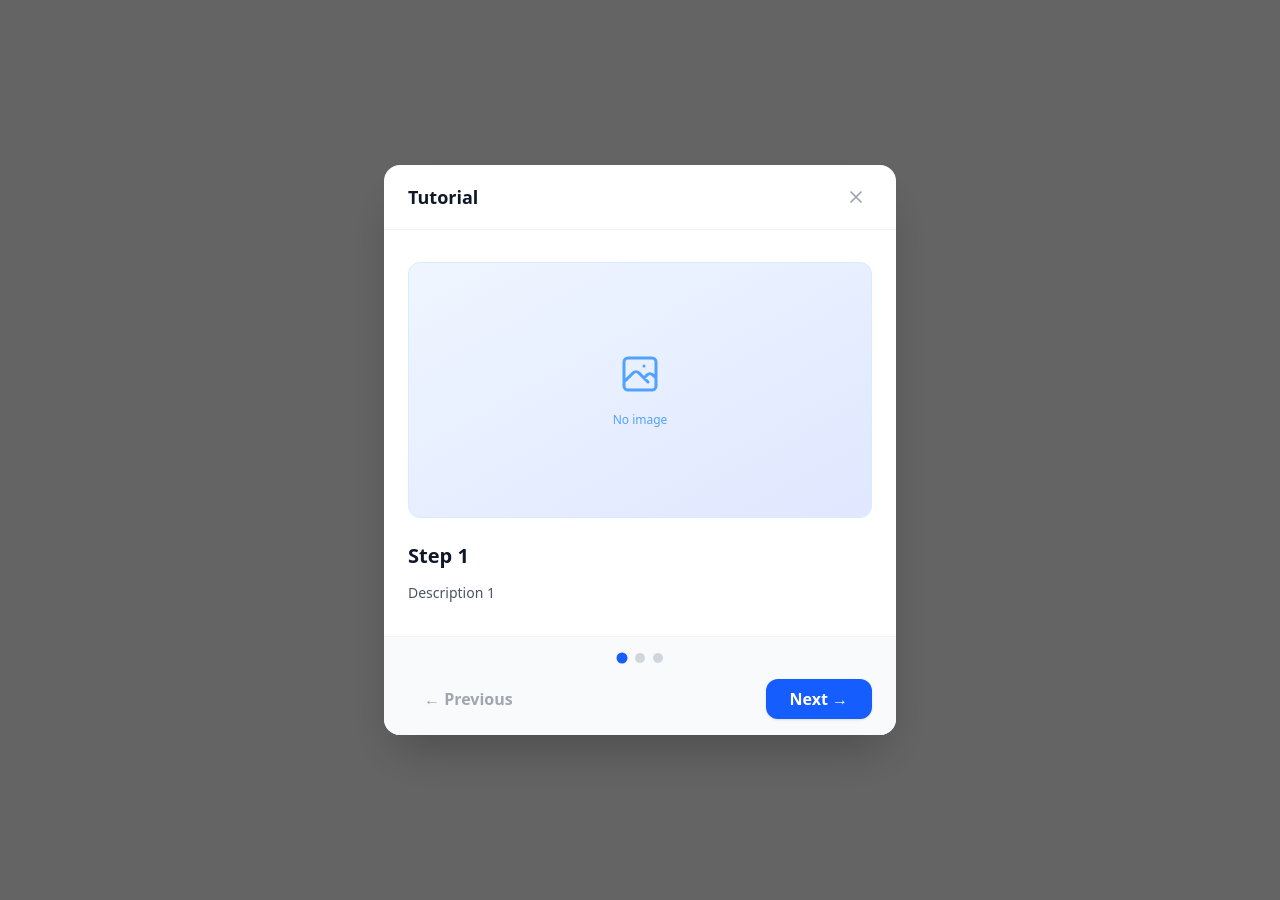
TutorialModal › navigates to previous step when clicking Previous
The width and height of the screenshot is (1280, 900).
// Go to step 2 first
Click the button "Next →".
click(819, 699)  # box [766,679,872,719]
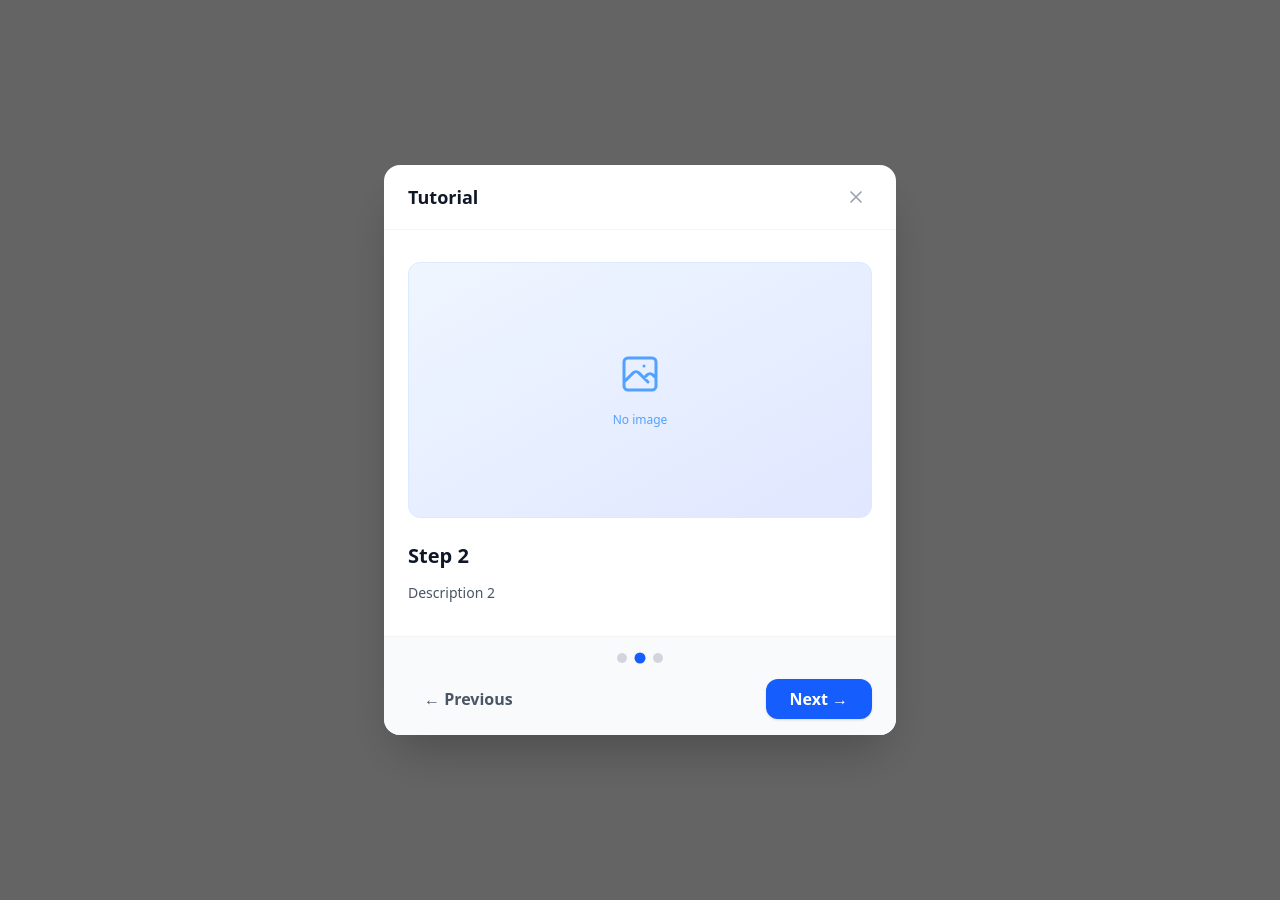
// Then go back
Click the button "← Previous".
click(468, 699)  # box [408,679,529,719]
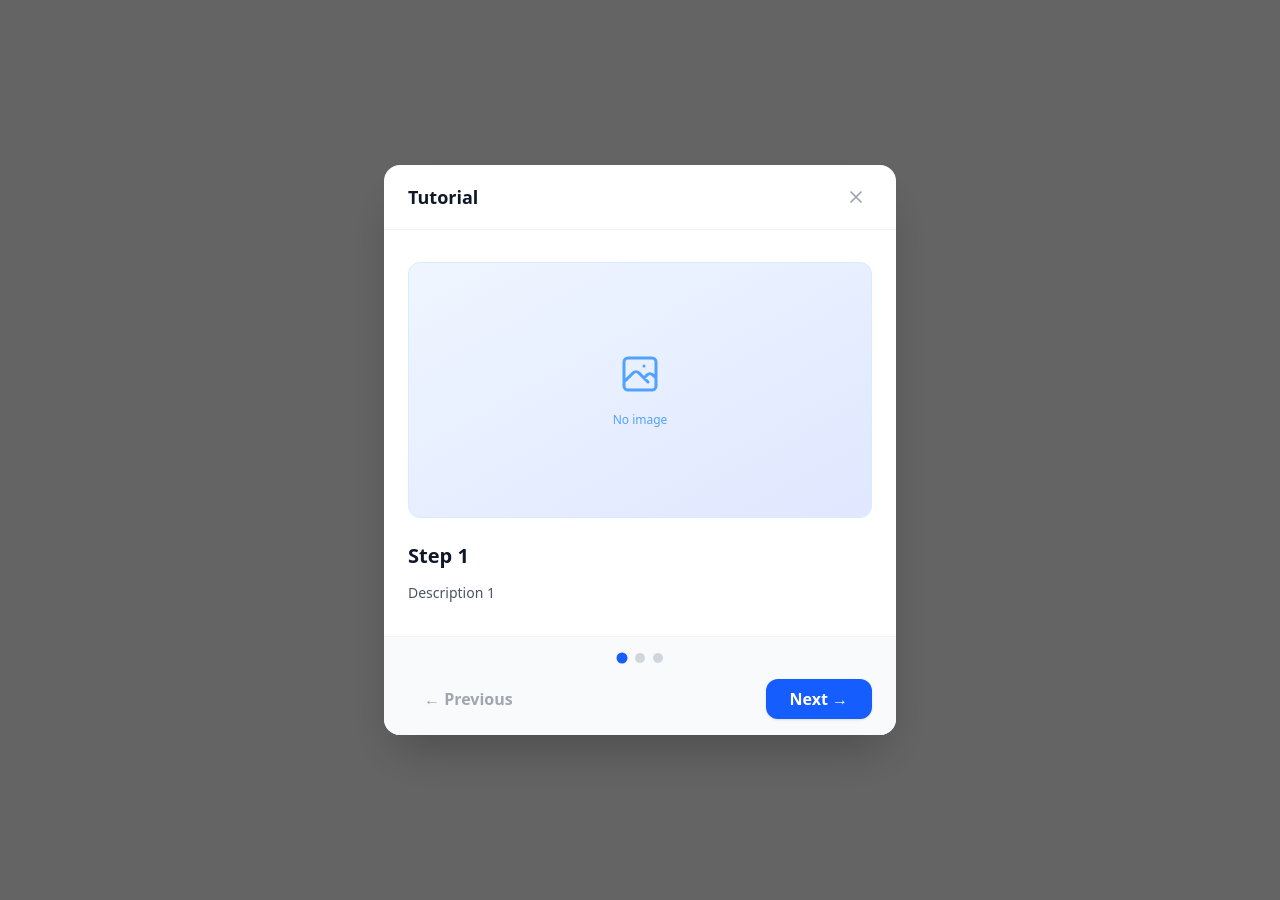
Now the heading "Step 1" is shown, box [408,542,469,569]
